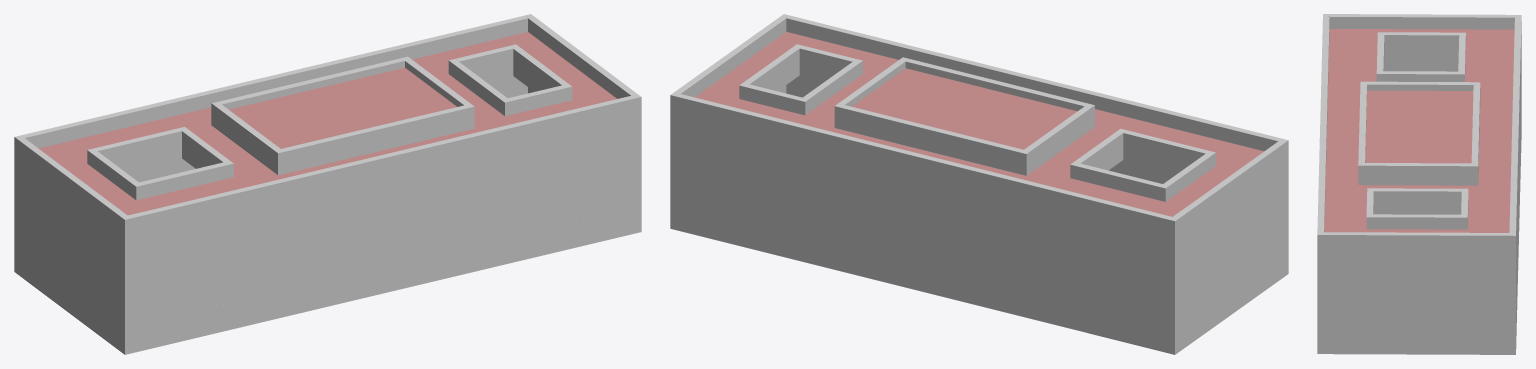
File: LOD_Block_1_25.glb
3 renders of one model, left to right at view 1: azimuth 30°, elevation 25°; view 2: azimuth 150°, elevation 25°; view 3: azimuth 270°, elevation 25°, orthographic. The views are drawn at different scales.
Parts seen in each view (by area): view 1: mesh_CityEngineMaterial_331; view 2: mesh_CityEngineMaterial_331; view 3: mesh_CityEngineMaterial_331.
Boxes of the visible parts, left/top/right/bottom form: mesh_CityEngineMaterial_331: left=14, top=14, right=641, bottom=354; mesh_CityEngineMaterial_331: left=670, top=14, right=1288, bottom=354; mesh_CityEngineMaterial_331: left=1317, top=14, right=1521, bottom=354.
Size of the model in its own units: 39.5 by 10.51 by 15.37.
